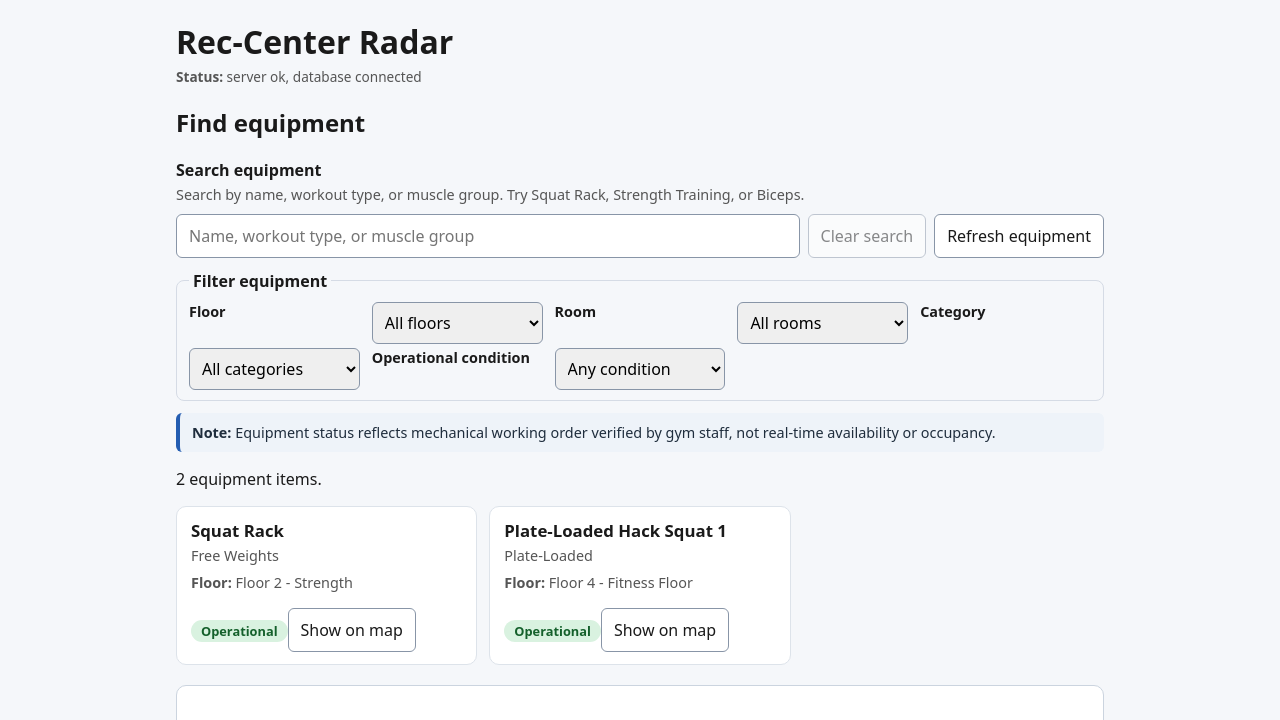
Scenario: selecting a search result opens the floor map on that machine's floor and outlines it (US2)
Click the button with aria-label "Show Plate-Loaded Hack Squat 1 on floor map" at (665, 630), box [601,608,729,652]
(page scrolled)
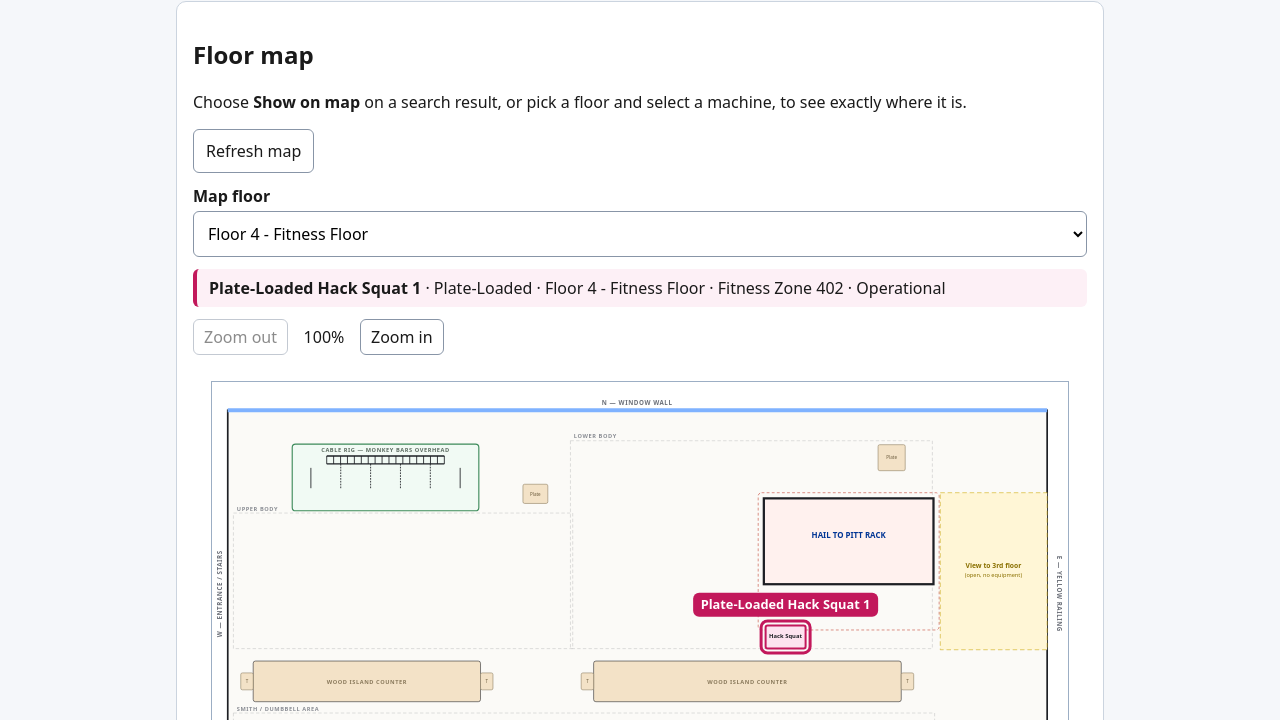
Result: the dropdown labelled "Map floor" shows "Floor 4 - Fitness Floor" at [193,211,1087,257]
